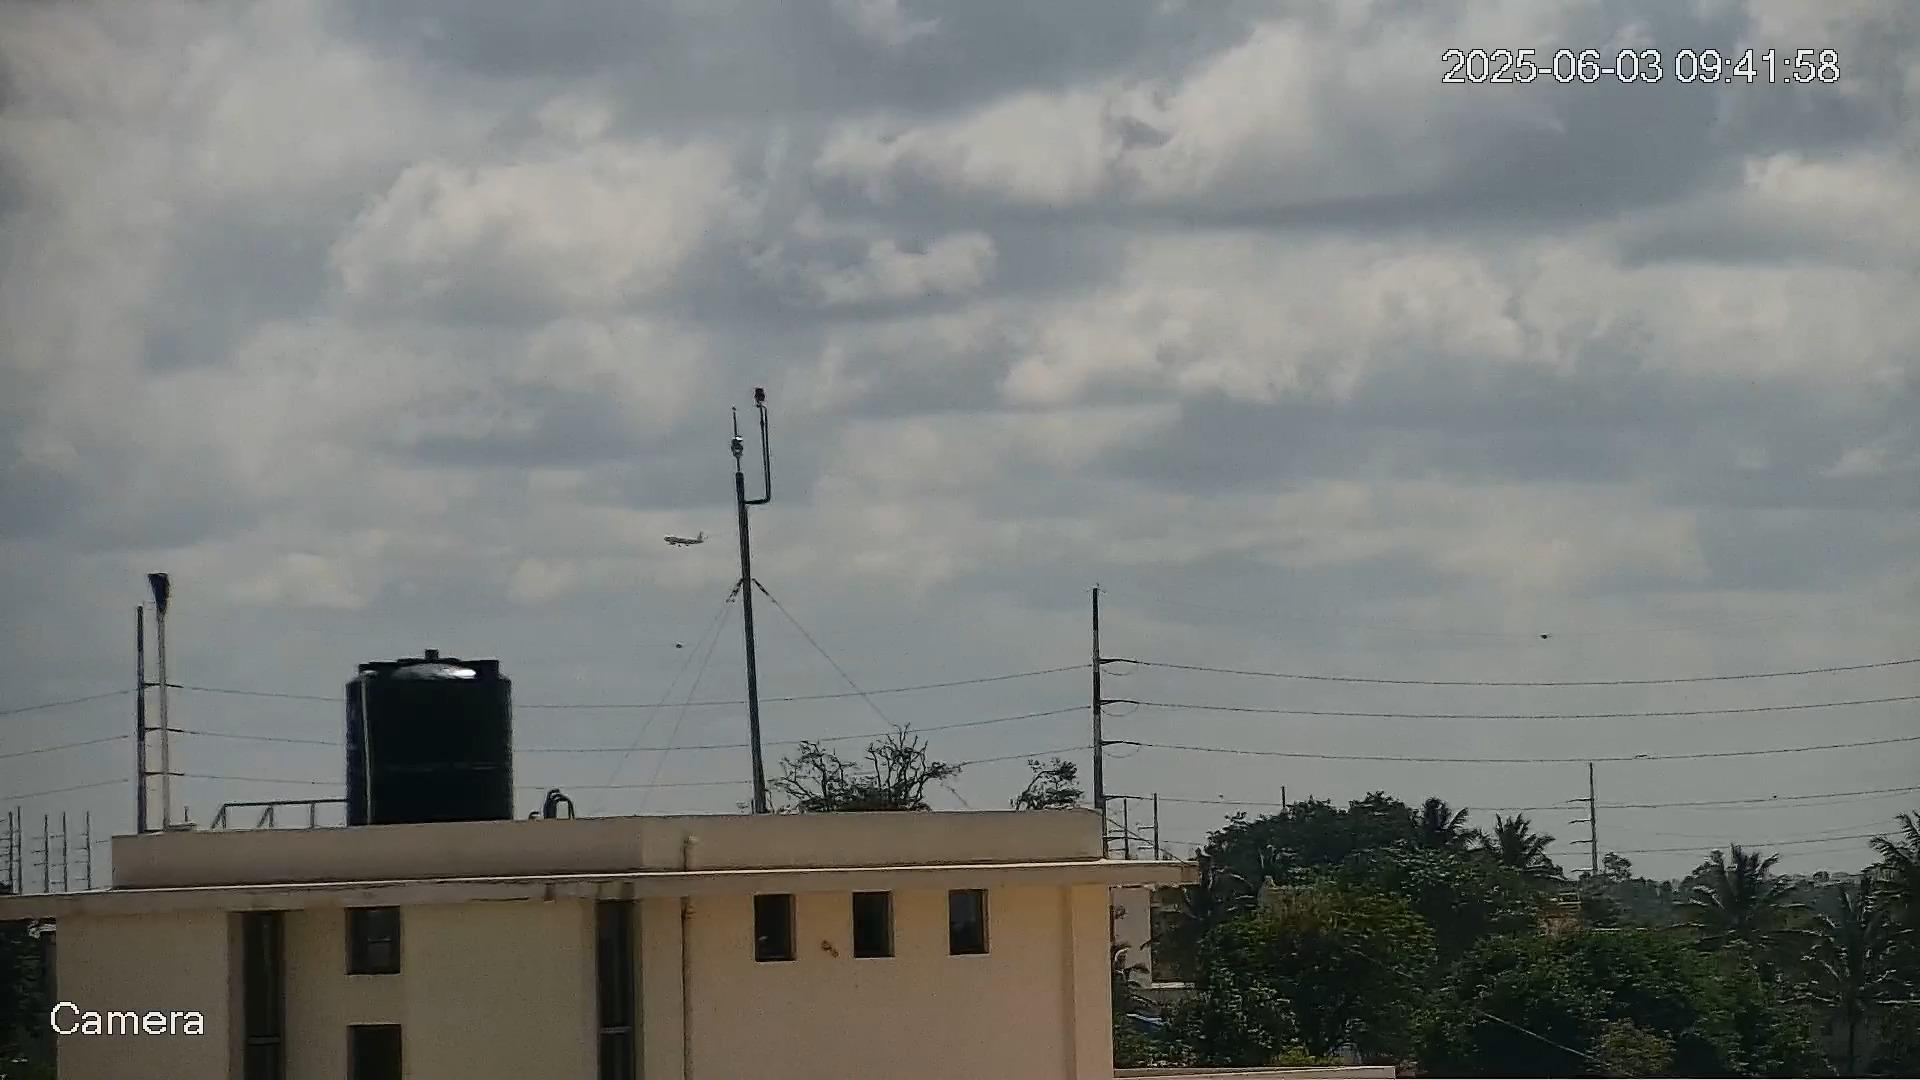Aircraft: (662, 531, 711, 549)
